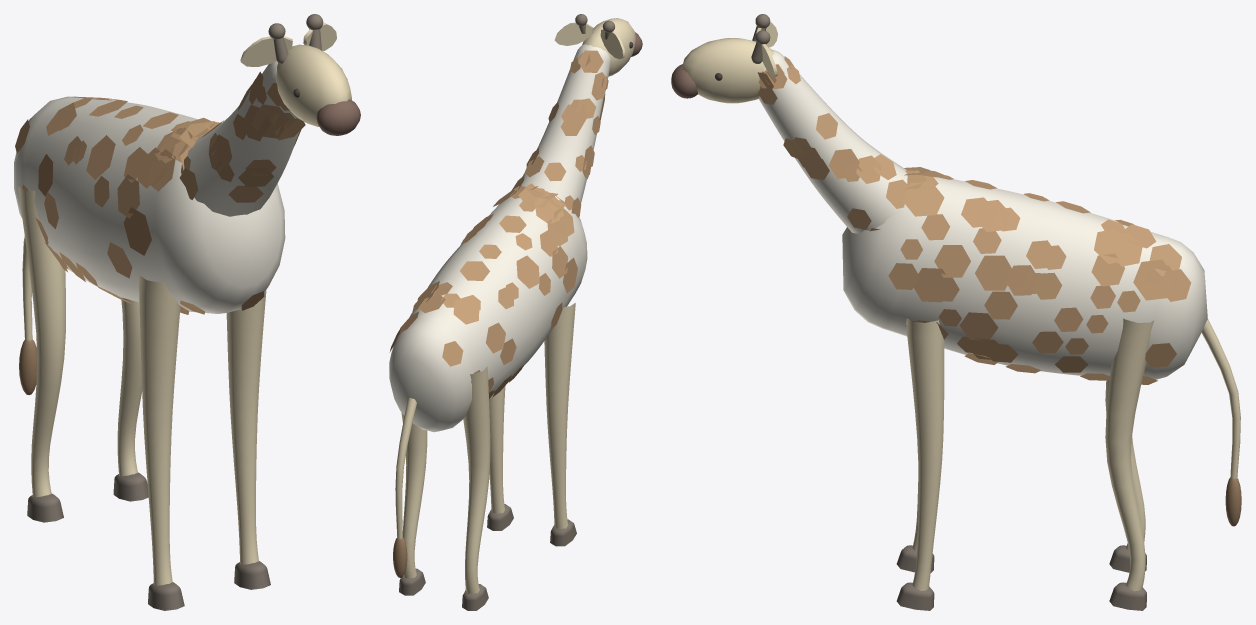
Rendered from savanna-wildlife-giraffe-calf-809f82e5__6538.glb.
3 renders of one model, left to right at view 1: azimuth 30°, elevation 25°; view 2: azimuth 150°, elevation 25°; view 3: azimuth 270°, elevation 25°, orthographic. The views are drawn at different scales.
Visible parts, largest first — view 1: giraffe-calf; view 2: giraffe-calf; view 3: giraffe-calf.
Boxes of the visible parts, x1,y1,x2,y2 form: giraffe-calf: (14,14,360,610); giraffe-calf: (389,14,642,610); giraffe-calf: (671,14,1241,610).
Size of the model in its own units: 0.5735 by 2.59 by 2.37.
